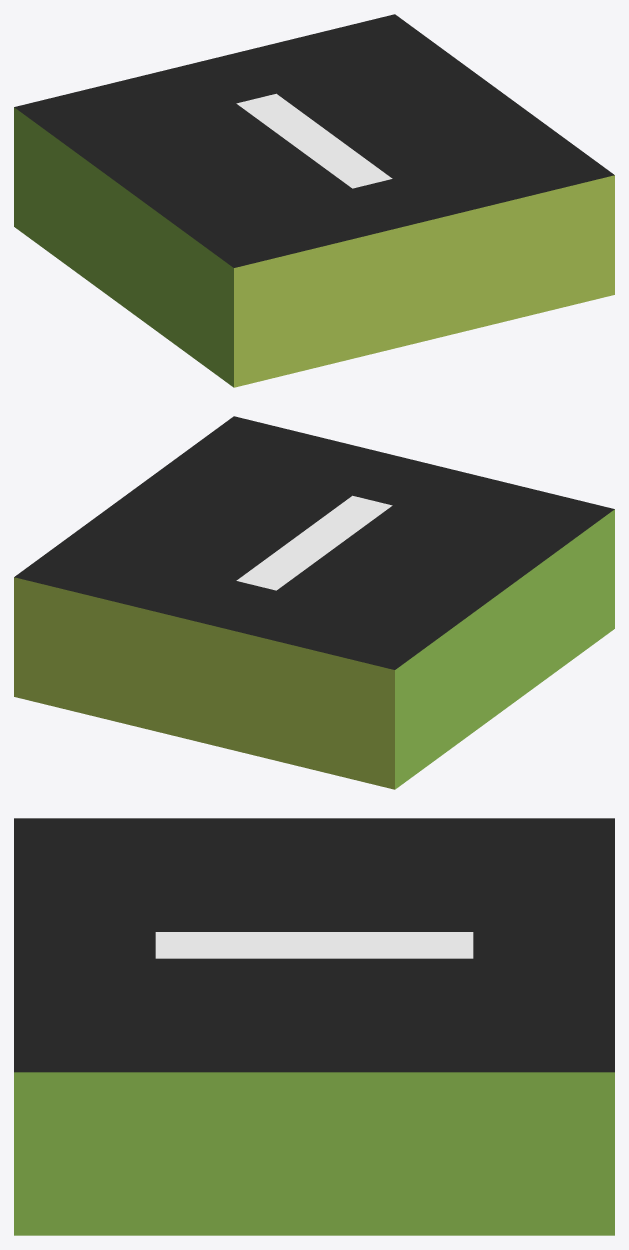
The model's file is floor_road3.fbx.
The picture shows the model from 3 angles, top to bottom: view 1: azimuth 30°, elevation 25°; view 2: azimuth 150°, elevation 25°; view 3: azimuth 270°, elevation 25°; orthographic projection. The views are drawn at different scales.
Visible parts, largest first — view 1: floor_road3; view 2: floor_road3; view 3: floor_road3.
Boxes of the visible parts, bbox=[...] form: floor_road3: bbox=[14, 14, 614, 387]; floor_road3: bbox=[14, 416, 614, 789]; floor_road3: bbox=[14, 818, 614, 1235].
Size of the model in its own units: 100 by 30 by 100.
